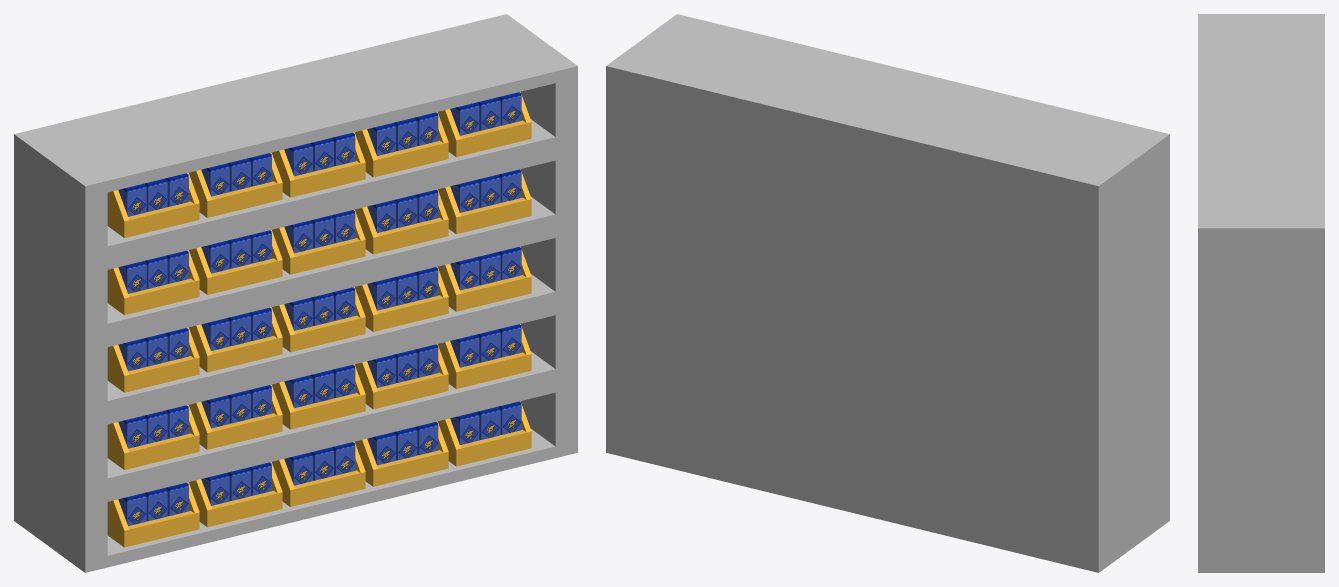
Rendered from Evelmart_Shelf_Lightning (1).fbx.
3 renders of one model, left to right at view 1: azimuth 30°, elevation 25°; view 2: azimuth 150°, elevation 25°; view 3: azimuth 270°, elevation 25°, orthographic. The views are drawn at different scales.
Parts seen in each view (by area): view 1: Lightning; view 2: Lightning; view 3: Lightning.
Part boxes in pixels (x1=…): Lightning: x1=14, y1=14, x2=577, y2=572; Lightning: x1=606, y1=14, x2=1169, y2=572; Lightning: x1=1198, y1=14, x2=1324, y2=572.
Size of the model in its own units: 805 by 604 by 201.
